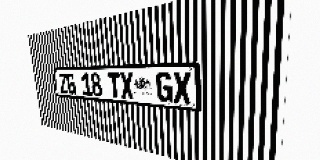1: (81, 73, 92, 96)
8: (90, 73, 102, 97)
G: (156, 72, 173, 103), (66, 73, 76, 95)
T: (108, 72, 121, 98)
X: (173, 72, 191, 104), (120, 72, 134, 99)
Z: (58, 73, 68, 94)
